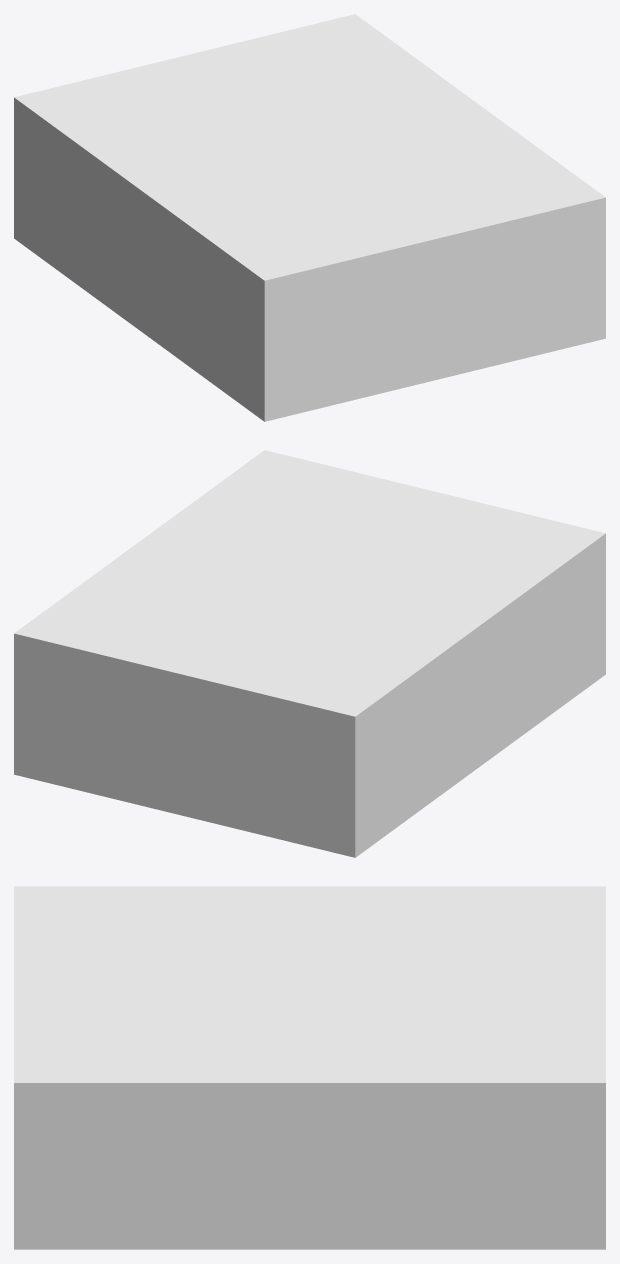
Rendered from gallery4-transformed.glb.
The picture shows the model from 3 angles, top to bottom: view 1: azimuth 30°, elevation 25°; view 2: azimuth 150°, elevation 25°; view 3: azimuth 270°, elevation 25°; orthographic projection. The views are drawn at different scales.
Visible parts, largest first — view 1: Cube_0; view 2: Cube_0; view 3: Cube_0.
Part boxes in pixels (box(x1,y1,x2,y2)): Cube_0: box(14, 14, 605, 421); Cube_0: box(14, 450, 605, 857); Cube_0: box(14, 886, 605, 1249).
Size of the model in its own units: 8.11 by 3.2 by 10.31.
14 materials, 13 textured.
